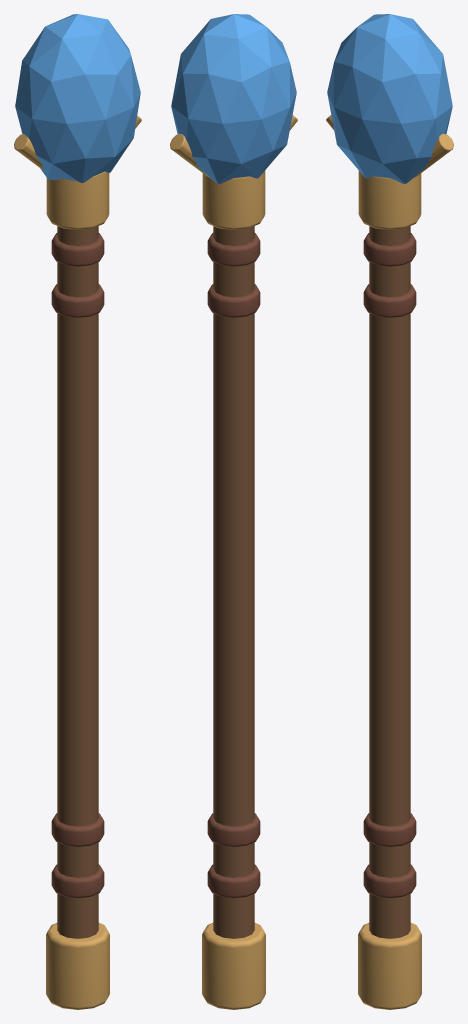
The model's file is fitted_staff.glb.
The picture shows the model from 3 angles, left to right: view 1: azimuth 30°, elevation 25°; view 2: azimuth 210°, elevation 25°; view 3: azimuth 330°, elevation 25°; orthographic projection.
Visible parts, largest first — view 1: Staff | ash shaft, Staff | arcane crystal, Staff | lower ferrule, Staff | upper ferrule, Staff | grip binding, Staff | grip binding.001, Staff | grip binding.003, Staff | grip binding.002, Staff | crystal prong; view 2: Staff | ash shaft, Staff | arcane crystal, Staff | lower ferrule, Staff | upper ferrule, Staff | grip binding, Staff | grip binding.001, Staff | grip binding.003, Staff | grip binding.002, Staff | crystal prong.001; view 3: Staff | ash shaft, Staff | arcane crystal, Staff | lower ferrule, Staff | upper ferrule, Staff | grip binding, Staff | grip binding.001, Staff | grip binding.003, Staff | grip binding.002, Staff | crystal prong.001.
Boxes of the visible parts, x1,y1,x2,y2 form: Staff | ash shaft: (57,226,98,938); Staff | arcane crystal: (15,14,140,183); Staff | lower ferrule: (46,923,109,1009); Staff | upper ferrule: (46,171,109,229); Staff | grip binding: (51,864,104,898); Staff | grip binding.001: (51,813,104,846); Staff | grip binding.003: (51,233,104,266); Staff | grip binding.002: (51,284,104,317); Staff | crystal prong: (14,134,43,169); Staff | ash shaft: (213,226,254,938); Staff | arcane crystal: (171,14,296,183); Staff | lower ferrule: (202,923,265,1009); Staff | upper ferrule: (202,170,265,229); Staff | grip binding: (207,864,260,898); Staff | grip binding.001: (207,813,260,846); Staff | grip binding.003: (207,233,260,266); Staff | grip binding.002: (207,284,260,317); Staff | crystal prong.001: (170,133,208,177); Staff | ash shaft: (369,226,410,938); Staff | arcane crystal: (327,14,452,183); Staff | lower ferrule: (358,923,421,1009); Staff | upper ferrule: (358,170,421,229); Staff | grip binding: (363,864,416,898); Staff | grip binding.001: (363,813,416,846); Staff | grip binding.003: (363,233,416,266); Staff | grip binding.002: (363,284,416,317); Staff | crystal prong.001: (415,133,453,177).
Size of the model in its own units: 0.2289 by 1.73 by 0.176.
